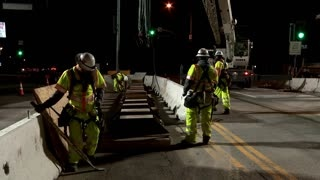white: (74, 50, 97, 75), (195, 47, 209, 62), (214, 50, 223, 59)
